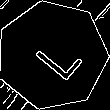L_NW: (23, 27, 82, 83)
